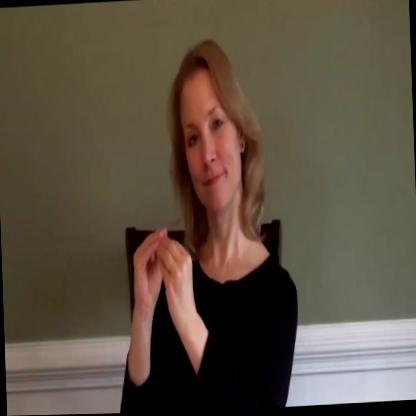Fix: (126, 219, 203, 341)
